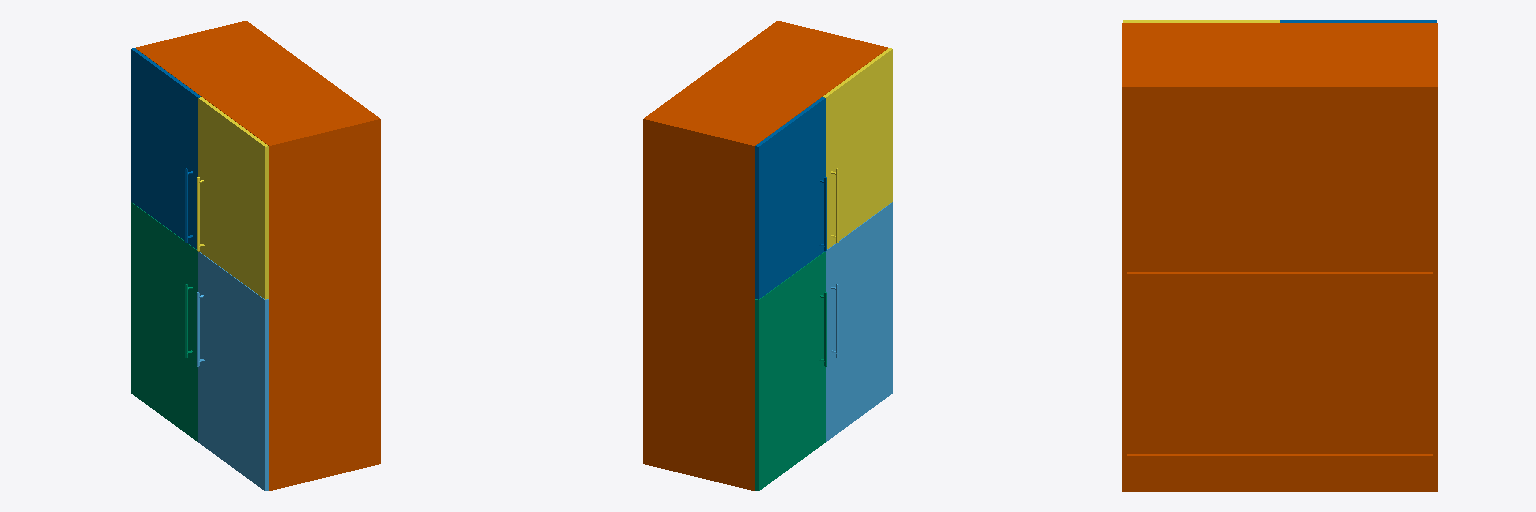
The robot description file, URDF, robot "partnet_9864a3d01b9627e94c3aee8e9d3a6ffa":
<?xml version='1.0' encoding='utf-8'?>
<robot name="partnet_9864a3d01b9627e94c3aee8e9d3a6ffa">
	<link name="base" />
	<link name="link_0">
		<visual name="cabinet_door_surface-13">
			<origin xyz="-0.5409363408846467 -0.7616900205612184 -0.2675410201384395" />
			<geometry>
				<mesh filename="textured_objs/original-29.obj" />
			</geometry>
		</visual>
		<visual name="handle-14">
			<origin xyz="-0.5409363408846467 -0.7616900205612184 -0.2675410201384395" />
			<geometry>
				<mesh filename="textured_objs/original-31.obj" />
			</geometry>
		</visual>
		<visual name="handle-14">
			<origin xyz="-0.5409363408846467 -0.7616900205612184 -0.2675410201384395" />
			<geometry>
				<mesh filename="textured_objs/original-33.obj" />
			</geometry>
		</visual>
		<visual name="handle-14">
			<origin xyz="-0.5409363408846467 -0.7616900205612184 -0.2675410201384395" />
			<geometry>
				<mesh filename="textured_objs/original-32.obj" />
			</geometry>
		</visual>
		<collision>
			<origin xyz="-0.5409363408846467 -0.7616900205612184 -0.2675410201384395" />
			<geometry>
				<mesh filename="textured_objs/original-29.obj" />
			</geometry>
		</collision>
		<collision>
			<origin xyz="-0.5409363408846467 -0.7616900205612184 -0.2675410201384395" />
			<geometry>
				<mesh filename="textured_objs/original-31.obj" />
			</geometry>
		</collision>
		<collision>
			<origin xyz="-0.5409363408846467 -0.7616900205612184 -0.2675410201384395" />
			<geometry>
				<mesh filename="textured_objs/original-33.obj" />
			</geometry>
		</collision>
		<collision>
			<origin xyz="-0.5409363408846467 -0.7616900205612184 -0.2675410201384395" />
			<geometry>
				<mesh filename="textured_objs/original-32.obj" />
			</geometry>
		</collision>
	</link>
	<joint name="joint_0" type="revolute">
		<origin xyz="0.5409363408846467 0.7616900205612184 0.2675410201384395" />
		<axis xyz="0 1 0" />
		<child link="link_0" />
		<parent link="link_4" />
		<limit lower="0.0" upper="2.0943951023931953" />
	</joint>
	<link name="link_1">
		<visual name="cabinet_door_surface-11">
			<origin xyz="0.5620410638948962 0.8122559785842896 -0.264186761160525" />
			<geometry>
				<mesh filename="textured_objs/original-44.obj" />
			</geometry>
		</visual>
		<visual name="handle-12">
			<origin xyz="0.5620410638948962 0.8122559785842896 -0.264186761160525" />
			<geometry>
				<mesh filename="textured_objs/original-48.obj" />
			</geometry>
		</visual>
		<visual name="handle-12">
			<origin xyz="0.5620410638948962 0.8122559785842896 -0.264186761160525" />
			<geometry>
				<mesh filename="textured_objs/original-46.obj" />
			</geometry>
		</visual>
		<visual name="handle-12">
			<origin xyz="0.5620410638948962 0.8122559785842896 -0.264186761160525" />
			<geometry>
				<mesh filename="textured_objs/original-47.obj" />
			</geometry>
		</visual>
		<collision>
			<origin xyz="0.5620410638948962 0.8122559785842896 -0.264186761160525" />
			<geometry>
				<mesh filename="textured_objs/original-44.obj" />
			</geometry>
		</collision>
		<collision>
			<origin xyz="0.5620410638948962 0.8122559785842896 -0.264186761160525" />
			<geometry>
				<mesh filename="textured_objs/original-48.obj" />
			</geometry>
		</collision>
		<collision>
			<origin xyz="0.5620410638948962 0.8122559785842896 -0.264186761160525" />
			<geometry>
				<mesh filename="textured_objs/original-46.obj" />
			</geometry>
		</collision>
		<collision>
			<origin xyz="0.5620410638948962 0.8122559785842896 -0.264186761160525" />
			<geometry>
				<mesh filename="textured_objs/original-47.obj" />
			</geometry>
		</collision>
	</link>
	<joint name="joint_1" type="revolute">
		<origin xyz="-0.5620410638948962 -0.8122559785842896 0.264186761160525" />
		<axis xyz="0 -1 0" />
		<child link="link_1" />
		<parent link="link_4" />
		<limit lower="0.0" upper="2.0943951023931953" />
	</joint>
	<link name="link_2">
		<visual name="cabinet_door_surface-9">
			<origin xyz="-0.5409363408846467 -0.7616900205612184 -0.2675410201384395" />
			<geometry>
				<mesh filename="textured_objs/original-21.obj" />
			</geometry>
		</visual>
		<visual name="handle-10">
			<origin xyz="-0.5409363408846467 -0.7616900205612184 -0.2675410201384395" />
			<geometry>
				<mesh filename="textured_objs/original-23.obj" />
			</geometry>
		</visual>
		<visual name="handle-10">
			<origin xyz="-0.5409363408846467 -0.7616900205612184 -0.2675410201384395" />
			<geometry>
				<mesh filename="textured_objs/original-25.obj" />
			</geometry>
		</visual>
		<visual name="handle-10">
			<origin xyz="-0.5409363408846467 -0.7616900205612184 -0.2675410201384395" />
			<geometry>
				<mesh filename="textured_objs/original-24.obj" />
			</geometry>
		</visual>
		<collision>
			<origin xyz="-0.5409363408846467 -0.7616900205612184 -0.2675410201384395" />
			<geometry>
				<mesh filename="textured_objs/original-21.obj" />
			</geometry>
		</collision>
		<collision>
			<origin xyz="-0.5409363408846467 -0.7616900205612184 -0.2675410201384395" />
			<geometry>
				<mesh filename="textured_objs/original-23.obj" />
			</geometry>
		</collision>
		<collision>
			<origin xyz="-0.5409363408846467 -0.7616900205612184 -0.2675410201384395" />
			<geometry>
				<mesh filename="textured_objs/original-25.obj" />
			</geometry>
		</collision>
		<collision>
			<origin xyz="-0.5409363408846467 -0.7616900205612184 -0.2675410201384395" />
			<geometry>
				<mesh filename="textured_objs/original-24.obj" />
			</geometry>
		</collision>
	</link>
	<joint name="joint_2" type="revolute">
		<origin xyz="0.5409363408846467 0.7616900205612184 0.2675410201384395" />
		<axis xyz="0 1 0" />
		<child link="link_2" />
		<parent link="link_4" />
		<limit lower="0.0" upper="2.0943951023931953" />
	</joint>
	<link name="link_3">
		<visual name="cabinet_door_surface-7">
			<origin xyz="0.5620410638948962 0.8122559785842896 -0.264186761160525" />
			<geometry>
				<mesh filename="textured_objs/original-38.obj" />
			</geometry>
		</visual>
		<visual name="handle-8">
			<origin xyz="0.5620410638948962 0.8122559785842896 -0.264186761160525" />
			<geometry>
				<mesh filename="textured_objs/original-40.obj" />
			</geometry>
		</visual>
		<visual name="handle-8">
			<origin xyz="0.5620410638948962 0.8122559785842896 -0.264186761160525" />
			<geometry>
				<mesh filename="textured_objs/original-42.obj" />
			</geometry>
		</visual>
		<visual name="handle-8">
			<origin xyz="0.5620410638948962 0.8122559785842896 -0.264186761160525" />
			<geometry>
				<mesh filename="textured_objs/original-41.obj" />
			</geometry>
		</visual>
		<collision>
			<origin xyz="0.5620410638948962 0.8122559785842896 -0.264186761160525" />
			<geometry>
				<mesh filename="textured_objs/original-38.obj" />
			</geometry>
		</collision>
		<collision>
			<origin xyz="0.5620410638948962 0.8122559785842896 -0.264186761160525" />
			<geometry>
				<mesh filename="textured_objs/original-40.obj" />
			</geometry>
		</collision>
		<collision>
			<origin xyz="0.5620410638948962 0.8122559785842896 -0.264186761160525" />
			<geometry>
				<mesh filename="textured_objs/original-42.obj" />
			</geometry>
		</collision>
		<collision>
			<origin xyz="0.5620410638948962 0.8122559785842896 -0.264186761160525" />
			<geometry>
				<mesh filename="textured_objs/original-41.obj" />
			</geometry>
		</collision>
	</link>
	<joint name="joint_3" type="revolute">
		<origin xyz="-0.5620410638948962 -0.8122559785842896 0.264186761160525" />
		<axis xyz="0 -1 0" />
		<child link="link_3" />
		<parent link="link_4" />
		<limit lower="0.0" upper="2.0943951023931953" />
	</joint>
	<link name="link_4">
		<visual name="shelf-16">
			<origin xyz="0 0 0" />
			<geometry>
				<mesh filename="textured_objs/original-27.obj" />
			</geometry>
		</visual>
		<visual name="shelf-17">
			<origin xyz="0 0 0" />
			<geometry>
				<mesh filename="textured_objs/original-35.obj" />
			</geometry>
		</visual>
		<visual name="shelf-17">
			<origin xyz="0 0 0" />
			<geometry>
				<mesh filename="textured_objs/original-36.obj" />
			</geometry>
		</visual>
		<visual name="shelf-18">
			<origin xyz="0 0 0" />
			<geometry>
				<mesh filename="textured_objs/original-19.obj" />
			</geometry>
		</visual>
		<visual name="vertical_side_panel-19">
			<origin xyz="0 0 0" />
			<geometry>
				<mesh filename="textured_objs/original-4.obj" />
			</geometry>
		</visual>
		<visual name="vertical_side_panel-19">
			<origin xyz="0 0 0" />
			<geometry>
				<mesh filename="textured_objs/original-3.obj" />
			</geometry>
		</visual>
		<visual name="vertical_side_panel-20">
			<origin xyz="0 0 0" />
			<geometry>
				<mesh filename="textured_objs/original-7.obj" />
			</geometry>
		</visual>
		<visual name="vertical_side_panel-20">
			<origin xyz="0 0 0" />
			<geometry>
				<mesh filename="textured_objs/original-6.obj" />
			</geometry>
		</visual>
		<visual name="back_panel-21">
			<origin xyz="0 0 0" />
			<geometry>
				<mesh filename="textured_objs/original-12.obj" />
			</geometry>
		</visual>
		<visual name="bottom_panel-22">
			<origin xyz="0 0 0" />
			<geometry>
				<mesh filename="textured_objs/original-17.obj" />
			</geometry>
		</visual>
		<visual name="bottom_panel-22">
			<origin xyz="0 0 0" />
			<geometry>
				<mesh filename="textured_objs/original-16.obj" />
			</geometry>
		</visual>
		<visual name="top_panel-23">
			<origin xyz="0 0 0" />
			<geometry>
				<mesh filename="textured_objs/original-10.obj" />
			</geometry>
		</visual>
		<visual name="top_panel-23">
			<origin xyz="0 0 0" />
			<geometry>
				<mesh filename="textured_objs/original-9.obj" />
			</geometry>
		</visual>
		<visual name="frame_horizontal_bar-25">
			<origin xyz="0 0 0" />
			<geometry>
				<mesh filename="textured_objs/original-11.obj" />
			</geometry>
		</visual>
		<visual name="frame_horizontal_bar-26">
			<origin xyz="0 0 0" />
			<geometry>
				<mesh filename="textured_objs/original-13.obj" />
			</geometry>
		</visual>
		<visual name="frame_horizontal_bar-27">
			<origin xyz="0 0 0" />
			<geometry>
				<mesh filename="textured_objs/original-14.obj" />
			</geometry>
		</visual>
		<collision>
			<origin xyz="0 0 0" />
			<geometry>
				<mesh filename="textured_objs/original-27.obj" />
			</geometry>
		</collision>
		<collision>
			<origin xyz="0 0 0" />
			<geometry>
				<mesh filename="textured_objs/original-35.obj" />
			</geometry>
		</collision>
		<collision>
			<origin xyz="0 0 0" />
			<geometry>
				<mesh filename="textured_objs/original-36.obj" />
			</geometry>
		</collision>
		<collision>
			<origin xyz="0 0 0" />
			<geometry>
				<mesh filename="textured_objs/original-19.obj" />
			</geometry>
		</collision>
		<collision>
			<origin xyz="0 0 0" />
			<geometry>
				<mesh filename="textured_objs/original-4.obj" />
			</geometry>
		</collision>
		<collision>
			<origin xyz="0 0 0" />
			<geometry>
				<mesh filename="textured_objs/original-3.obj" />
			</geometry>
		</collision>
		<collision>
			<origin xyz="0 0 0" />
			<geometry>
				<mesh filename="textured_objs/original-7.obj" />
			</geometry>
		</collision>
		<collision>
			<origin xyz="0 0 0" />
			<geometry>
				<mesh filename="textured_objs/original-6.obj" />
			</geometry>
		</collision>
		<collision>
			<origin xyz="0 0 0" />
			<geometry>
				<mesh filename="textured_objs/original-12.obj" />
			</geometry>
		</collision>
		<collision>
			<origin xyz="0 0 0" />
			<geometry>
				<mesh filename="textured_objs/original-17.obj" />
			</geometry>
		</collision>
		<collision>
			<origin xyz="0 0 0" />
			<geometry>
				<mesh filename="textured_objs/original-16.obj" />
			</geometry>
		</collision>
		<collision>
			<origin xyz="0 0 0" />
			<geometry>
				<mesh filename="textured_objs/original-10.obj" />
			</geometry>
		</collision>
		<collision>
			<origin xyz="0 0 0" />
			<geometry>
				<mesh filename="textured_objs/original-9.obj" />
			</geometry>
		</collision>
		<collision>
			<origin xyz="0 0 0" />
			<geometry>
				<mesh filename="textured_objs/original-11.obj" />
			</geometry>
		</collision>
		<collision>
			<origin xyz="0 0 0" />
			<geometry>
				<mesh filename="textured_objs/original-13.obj" />
			</geometry>
		</collision>
		<collision>
			<origin xyz="0 0 0" />
			<geometry>
				<mesh filename="textured_objs/original-14.obj" />
			</geometry>
		</collision>
	</link>
	<joint name="joint_4" type="fixed">
		<origin rpy="1.570796326794897 0 -1.570796326794897" xyz="0 0 0" />
		<child link="link_4" />
		<parent link="base" />
	</joint>
</robot>

--- Facts derived from the render (not from the file) ---
Views: 3 orthographic renders of the robot side by side, from view 1: azimuth 30°, elevation 25°; view 2: azimuth 150°, elevation 25°; view 3: azimuth 270°, elevation 25°.
Robot: partnet_9864a3d01b9627e94c3aee8e9d3a6ffa — 6 links, 5 joints (4 revolute, 1 fixed); root link base; default pose: all joints at 0.
Links seen in each view (by area): view 1: link_4, link_0, link_1, link_2, link_3; view 2: link_4, link_1, link_0, link_3, link_2; view 3: link_4.
Link boxes in pixels (box(x1,y1,x2,y2)): link_4: box(136, 21, 380, 490); link_0: box(197, 252, 268, 490); link_1: box(131, 202, 197, 441); link_2: box(197, 97, 268, 299); link_3: box(131, 48, 200, 248); link_4: box(643, 21, 887, 490); link_1: box(755, 252, 826, 490); link_0: box(826, 202, 892, 441); link_3: box(755, 97, 826, 299); link_2: box(823, 48, 892, 248); link_4: box(1122, 23, 1437, 491).
Bounding box of the posed robot: 0.5852 × 1.11 × 1.58 m (x, y, z).
Meshes: 32 distinct files referenced, 32 mesh visuals loaded (32 OBJ).